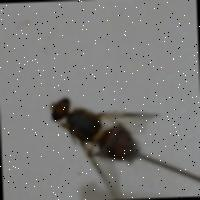Oriental-fruit-fly: (13, 85, 171, 200)
